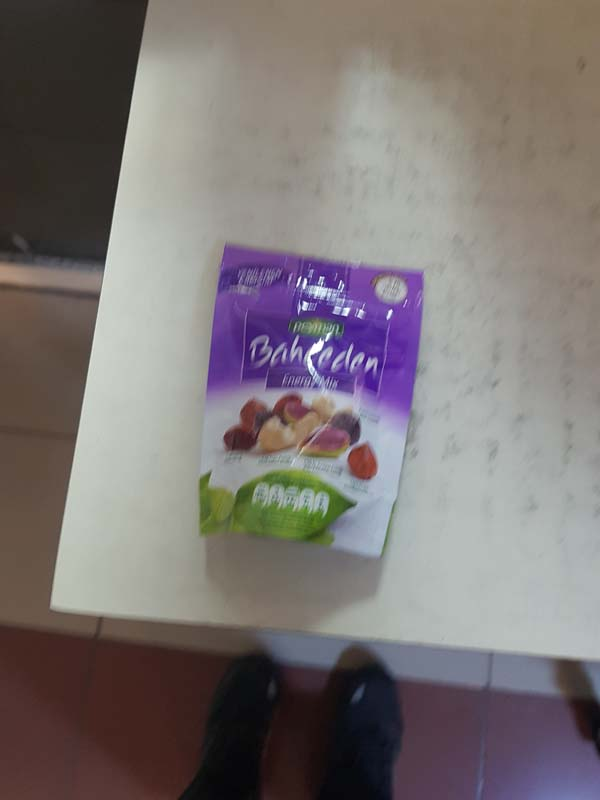bahcedenenergymix: (196, 233, 431, 566)
